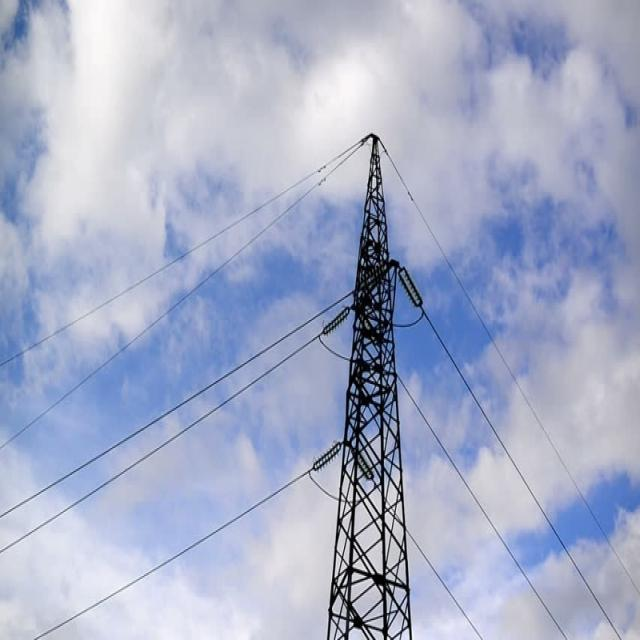non-critical vegetation: (318, 124, 426, 632)
